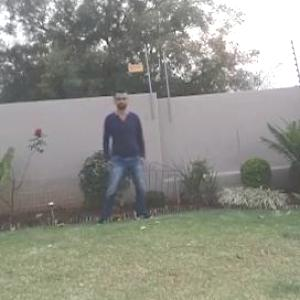follow: (99, 84, 151, 229)
